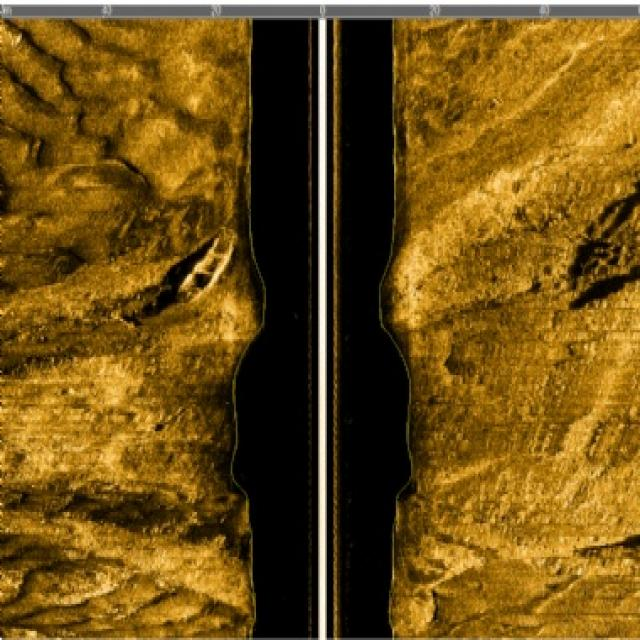ship: (173, 224, 236, 306)
